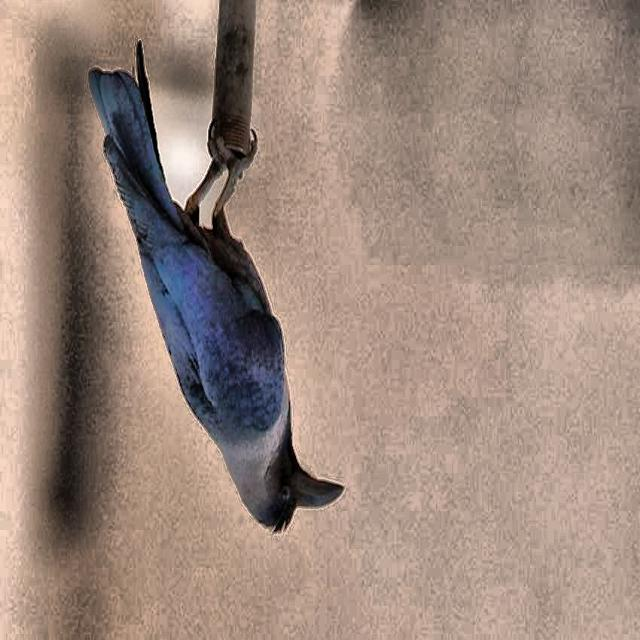crow: (87, 30, 345, 545)
